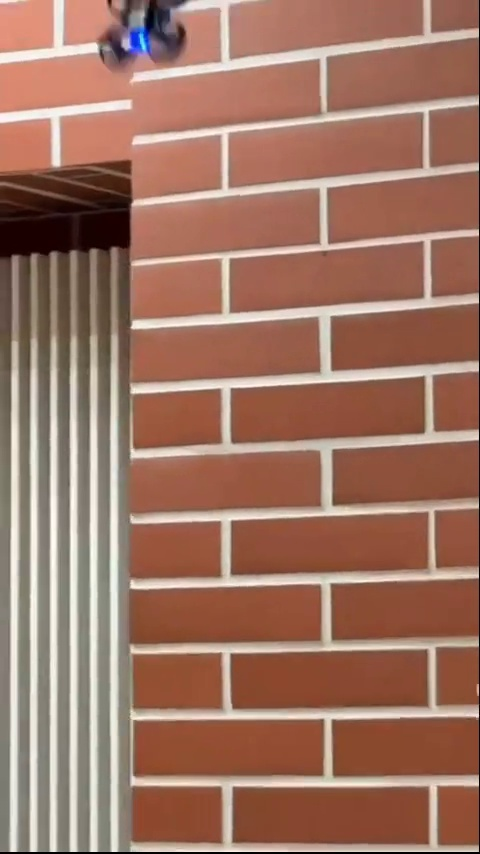drone: (79, 3, 210, 68)
